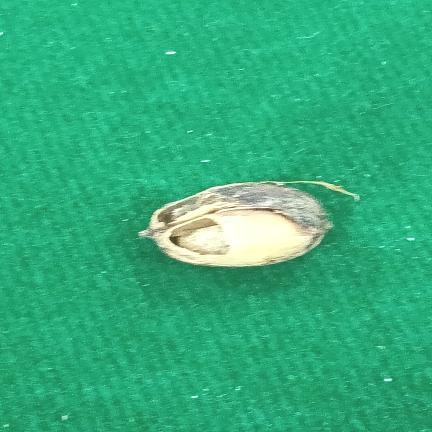full-black: (139, 182, 332, 267)
